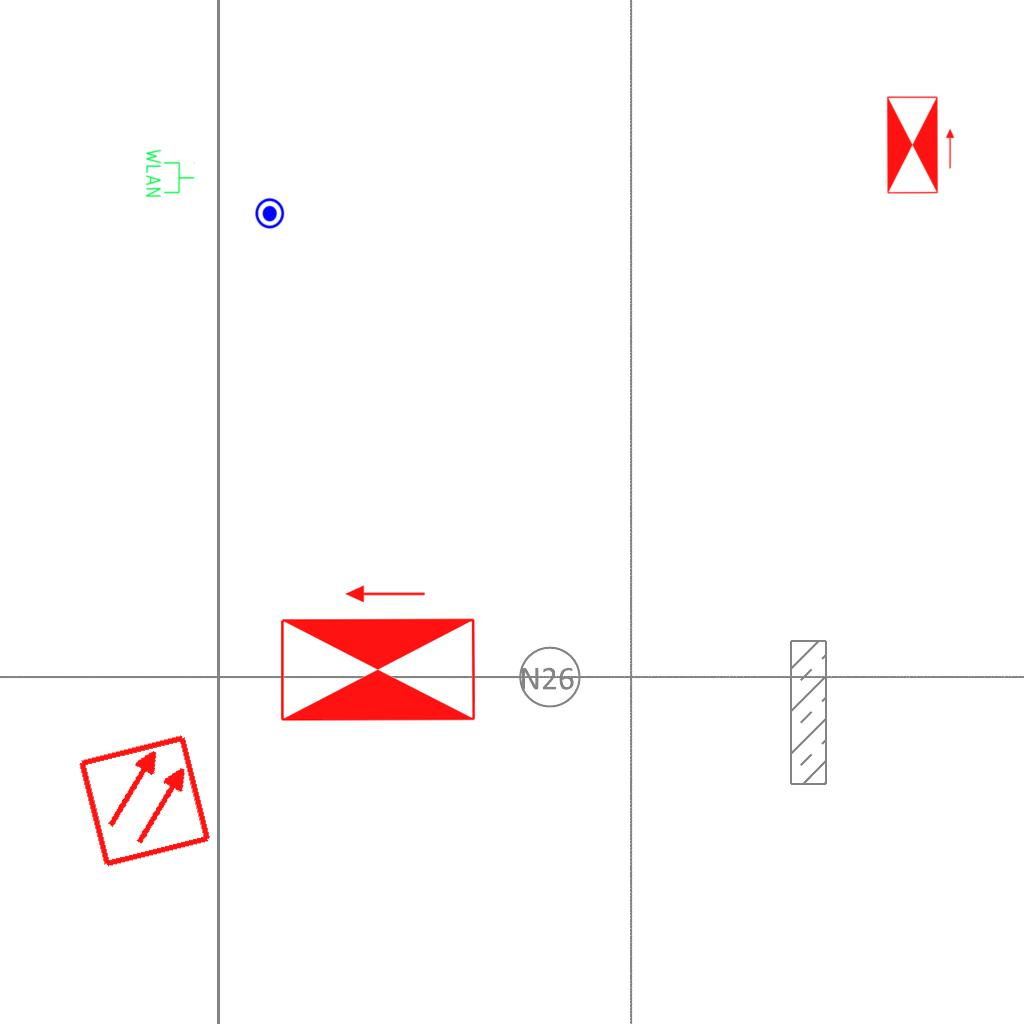Fluchtwegpiktogramm: (274, 580, 482, 727), (884, 93, 957, 197)
RMO_Rauchmelder_optischer: (76, 732, 213, 869)
Taster: (252, 197, 285, 230)
WLAN: (144, 147, 196, 199)
